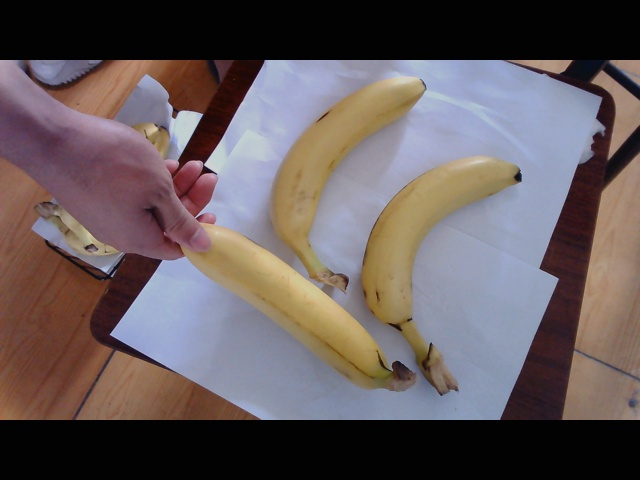banana: (166, 219, 389, 395), (372, 147, 521, 387), (273, 61, 404, 280)
